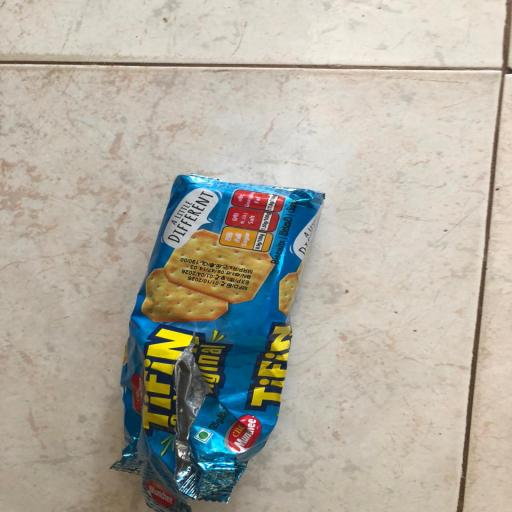waste: (108, 151, 335, 512)
